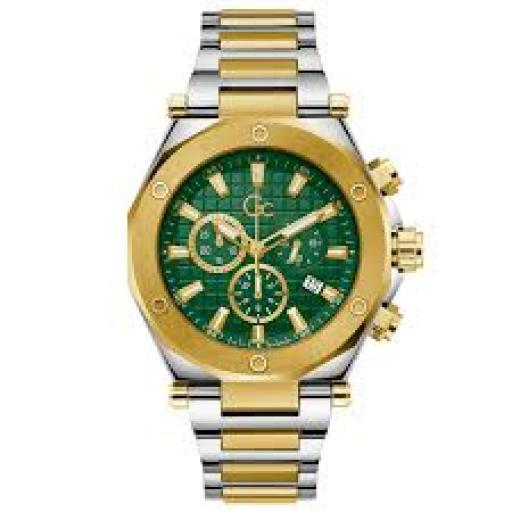KolSaati: (106, 4, 431, 504)
